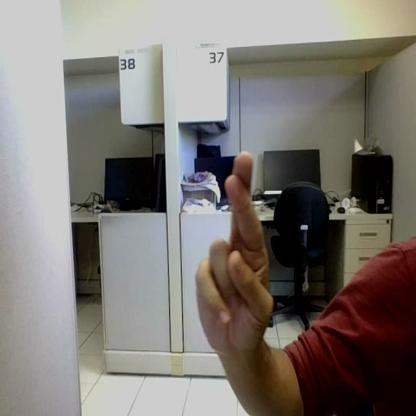R: (196, 152, 271, 346)
